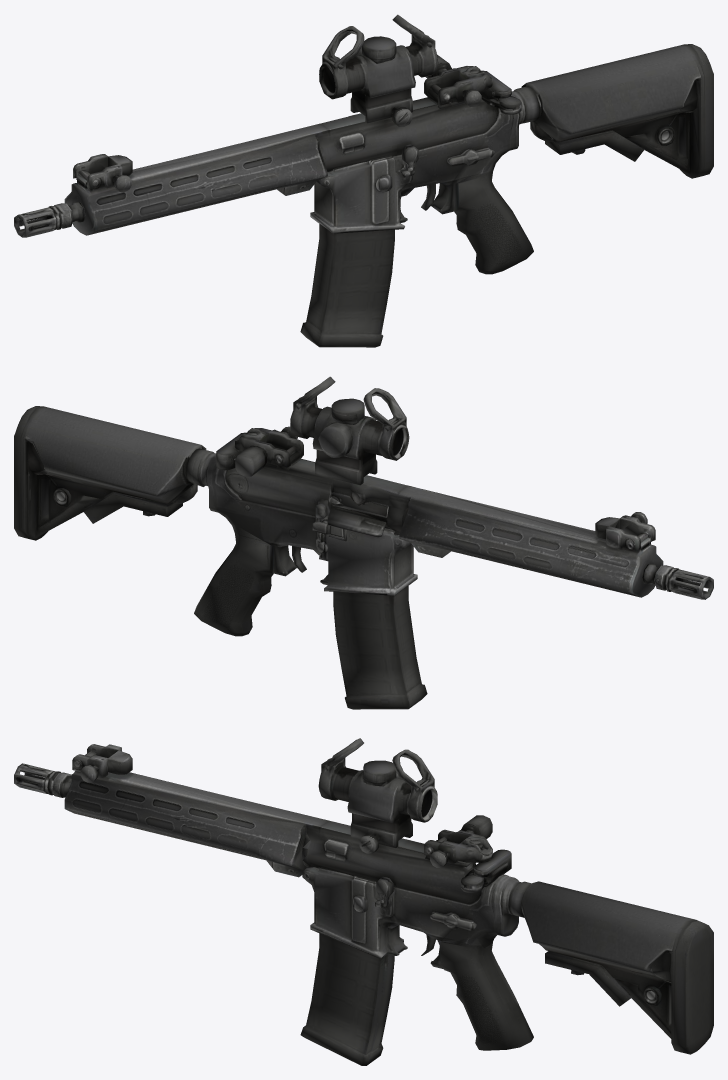
Rendered from assault-rifle.glb.
3 renders of one model, top to bottom at view 1: azimuth 30°, elevation 25°; view 2: azimuth 150°, elevation 25°; view 3: azimuth 330°, elevation 25°, orthographic.
Visible parts, largest first — view 1: tripo_part_0; view 2: tripo_part_0; view 3: tripo_part_0.
Part boxes in pixels (bbox=[...]): tripo_part_0: bbox=[14, 14, 713, 347]; tripo_part_0: bbox=[14, 376, 713, 709]; tripo_part_0: bbox=[14, 738, 713, 1065].
Size of the model in its own units: 1 by 0.4442 by 0.1311.
Materials: 1 (1 with a texture image).
